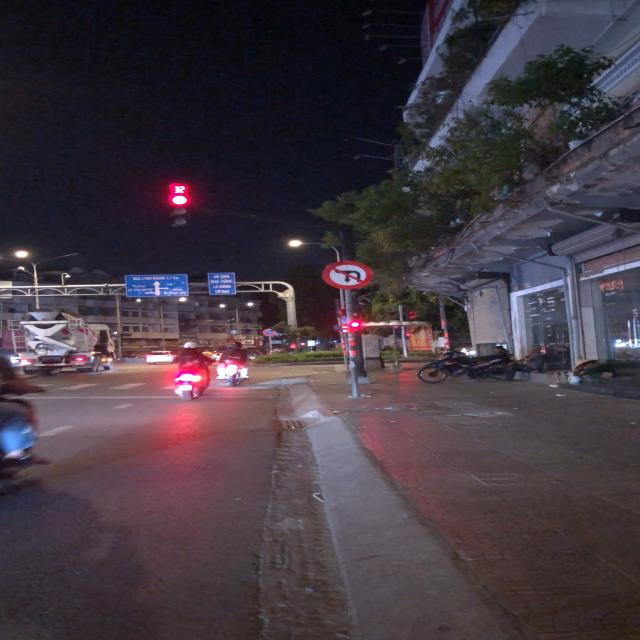Bien bao cam re trai va quay dau: (320, 260, 376, 291)
